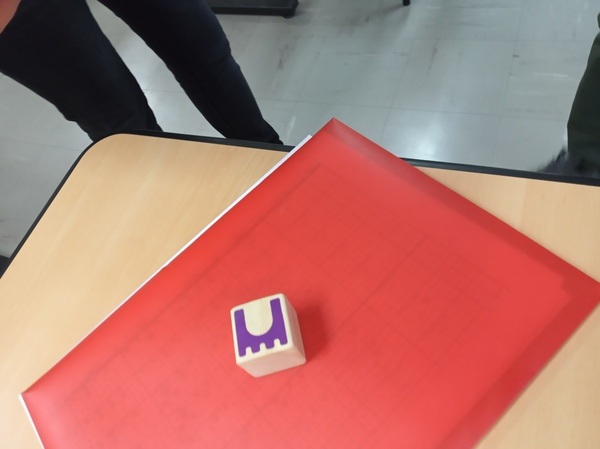violet: (230, 301, 309, 364)
